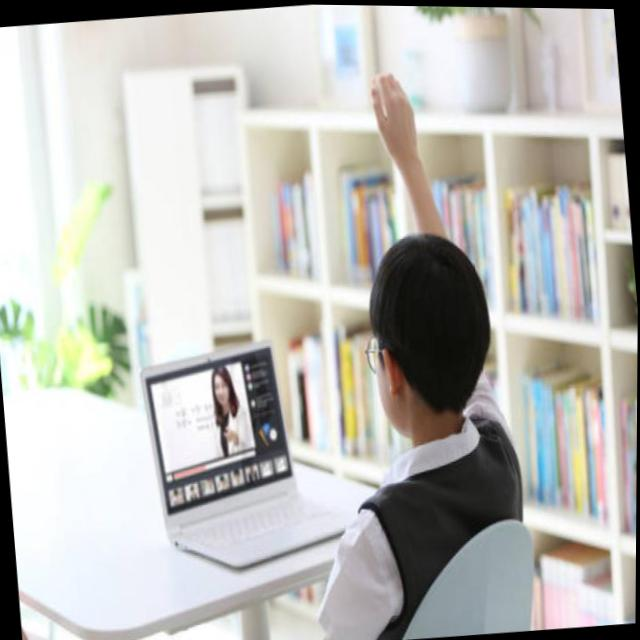no helmet: (328, 211, 521, 502)
